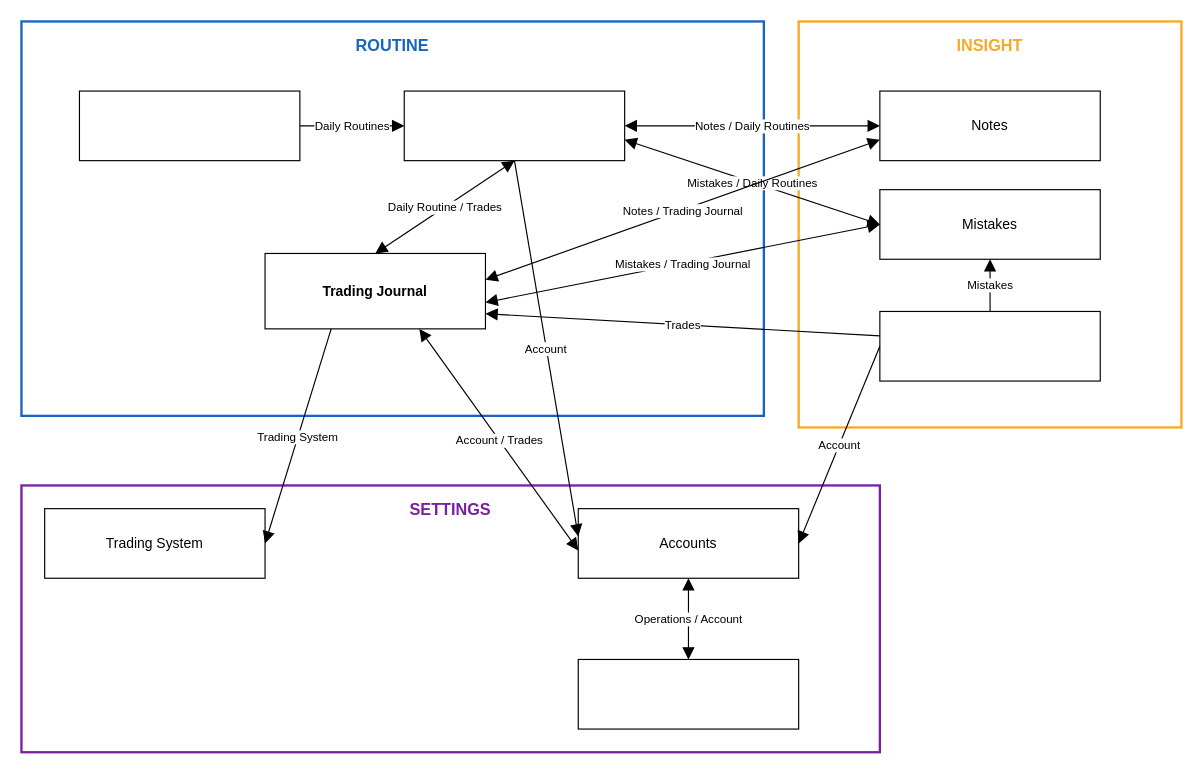
Image size: 1202x773. Some labels were removed from this diagram. Each missing label, with the box of its shape:
Daily Routine: (403, 90, 625, 161)
Operations: (577, 658, 799, 729)
Performance Review: (879, 310, 1100, 381)
Routine Library: (78, 90, 300, 161)
